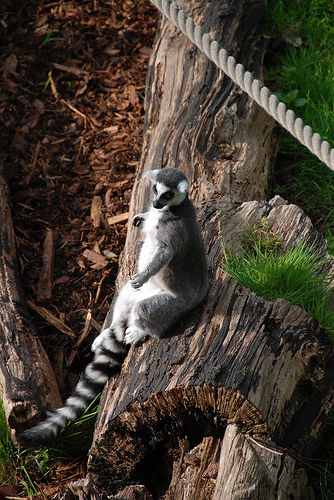cat: (21, 165, 208, 446)
